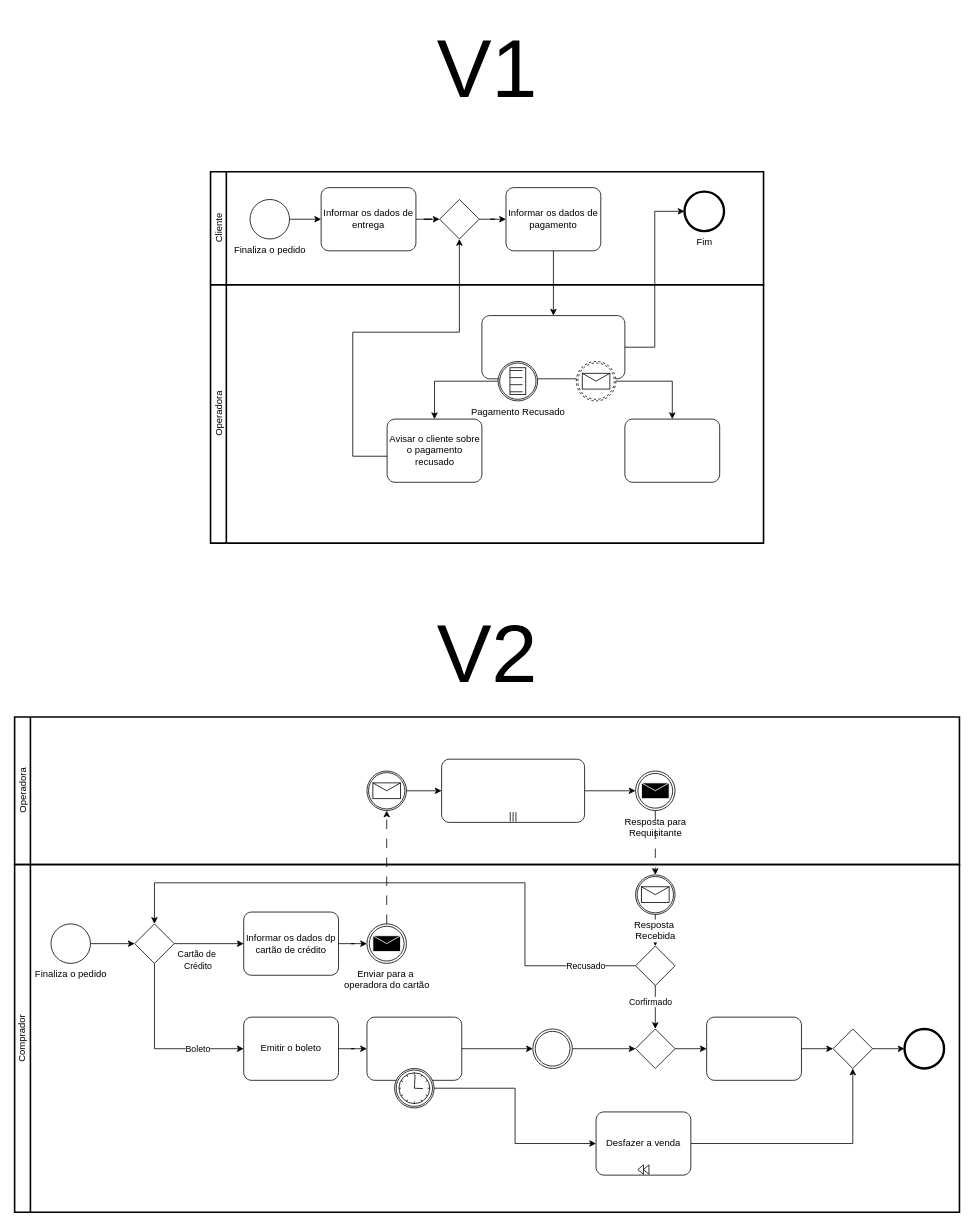
The diagram is 973 pixels wide and 1226 high, and some of its shapes have lost their labels. Each missing label, with the centre of its shape:
"2 semanas" goes at [414,1088].
"Avisar o cliente que o pagamento está sendo confirmado" goes at [672,450].
"Boleto Pago" goes at [552,1048].
"Confirma o pagmaneto" goes at [553,347].
"Dados Recebidos" goes at [386,790].
"Emitr a nota fiscal" goes at [753,1048].
"Processar o pagamento" goes at [513,790].
"Reservar produto no Estoque" goes at [414,1048].
